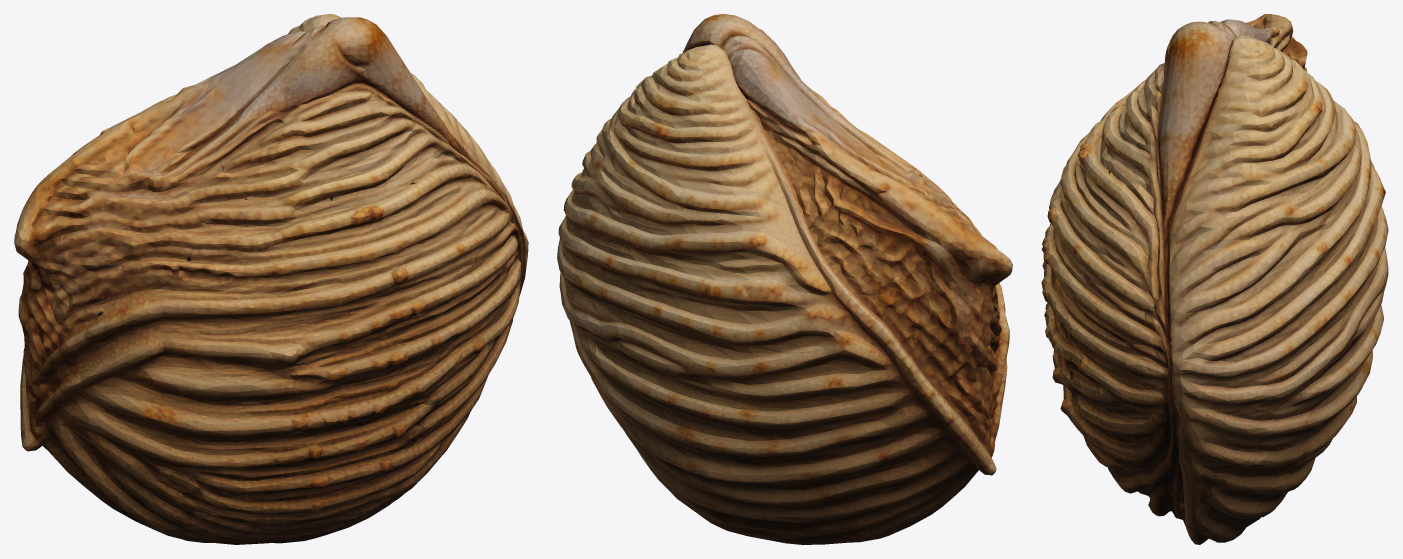
3 views of the same model, side by side, from view 1: azimuth 30°, elevation 25°; view 2: azimuth 150°, elevation 25°; view 3: azimuth 270°, elevation 25° (orthographic). The views are drawn at different scales.
Parts seen in each view (by area): view 1: world; view 2: world; view 3: world.
Boxes of the visible parts, left/top/right/bottom form: world: left=14, top=14, right=528, bottom=544; world: left=557, top=14, right=1012, bottom=544; world: left=1041, top=14, right=1388, bottom=544.
Bounding box in the file's own units: 0.999 × 0.9987 × 0.613.
Materials: 1 (1 with a texture image).
